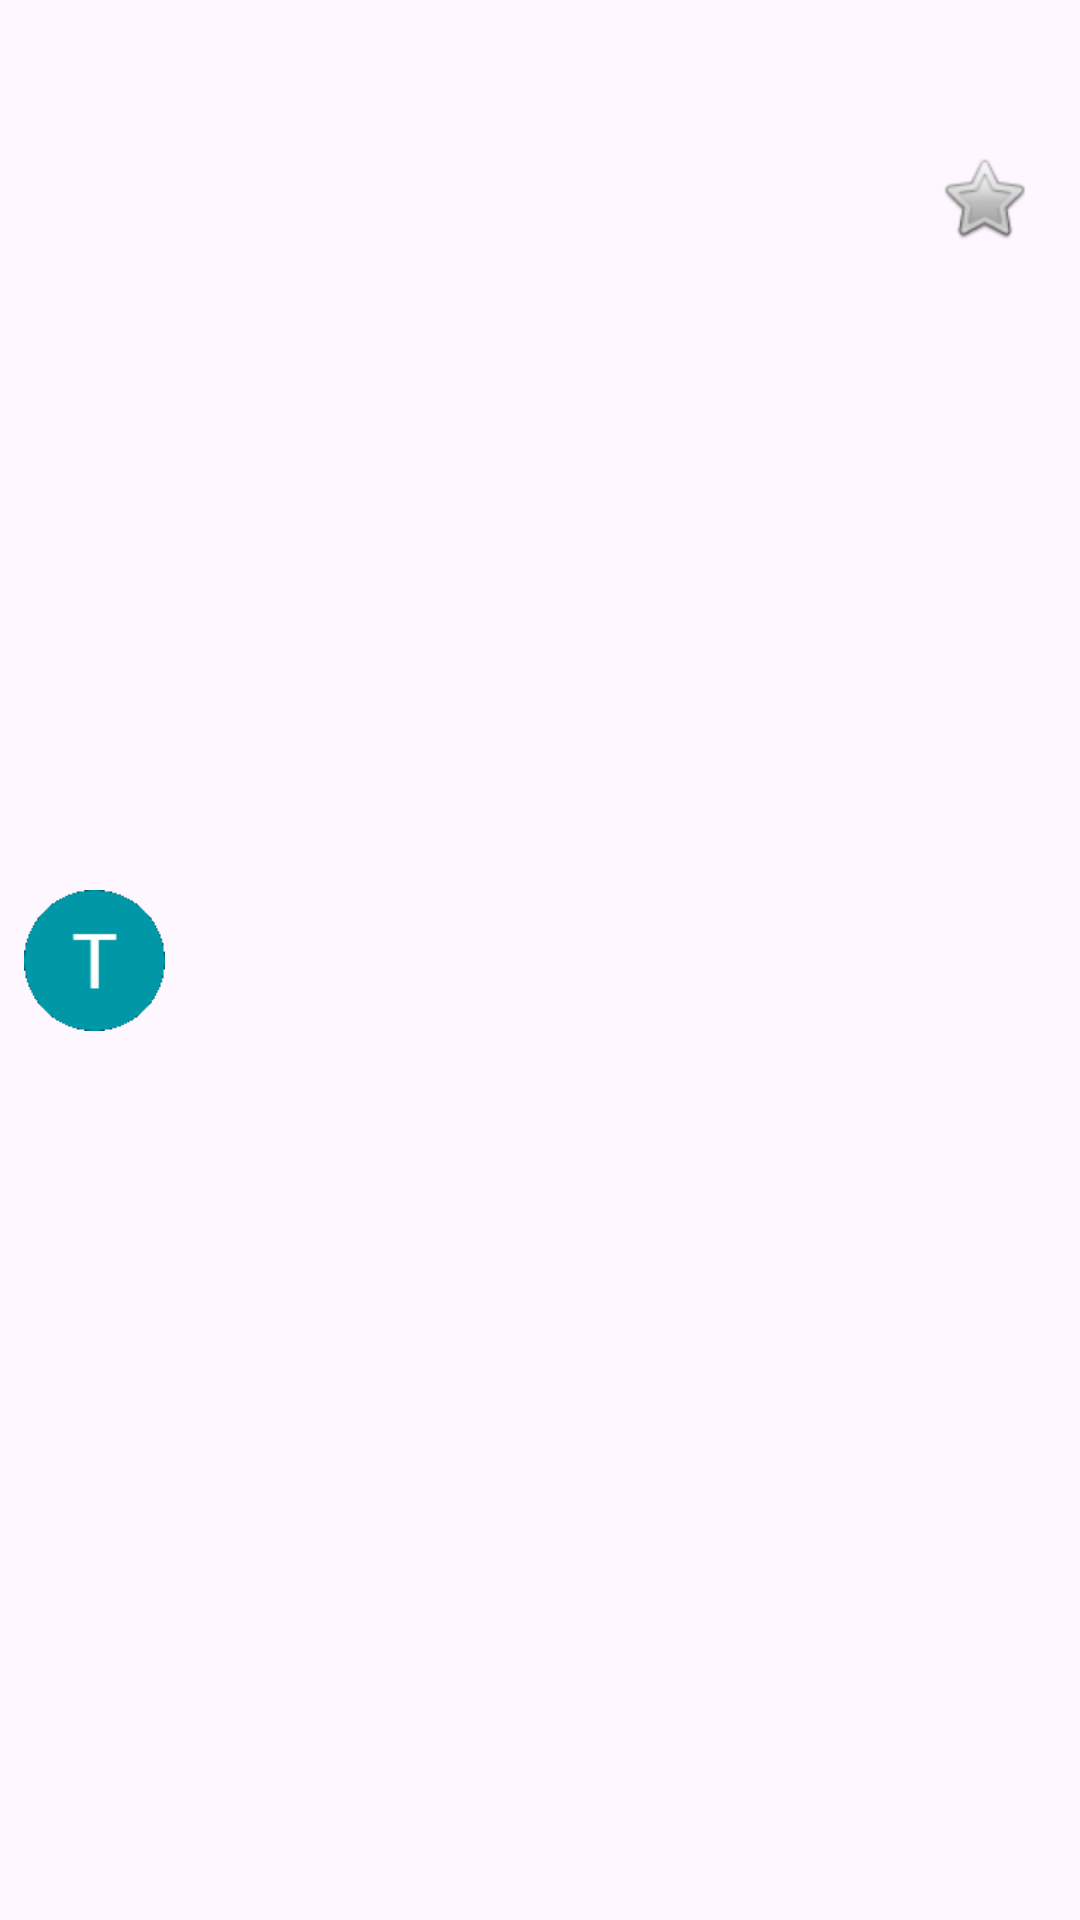

Icon bounding boxes for this 1080*1920 phone screenshot, format (x1, y1, x2, y2):
star: (945, 160, 1025, 238)
